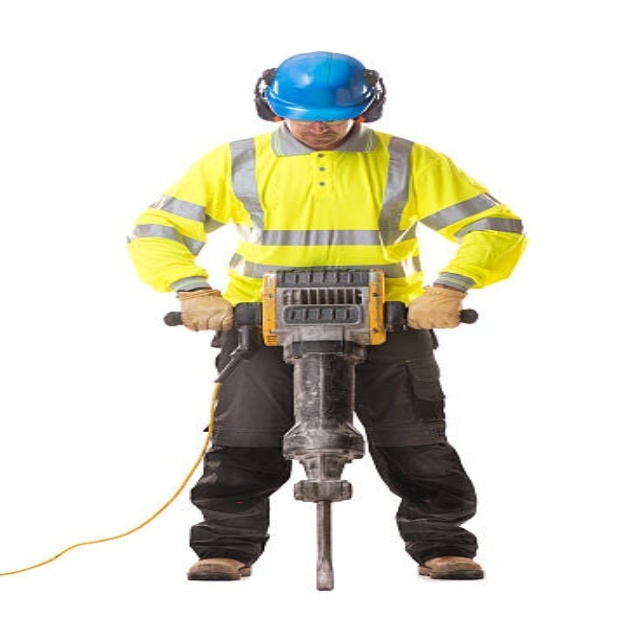Gafas: (287, 114, 351, 127)
Guantes: (402, 282, 470, 330), (174, 285, 237, 334)
Sin_mascara: (297, 130, 343, 144)
